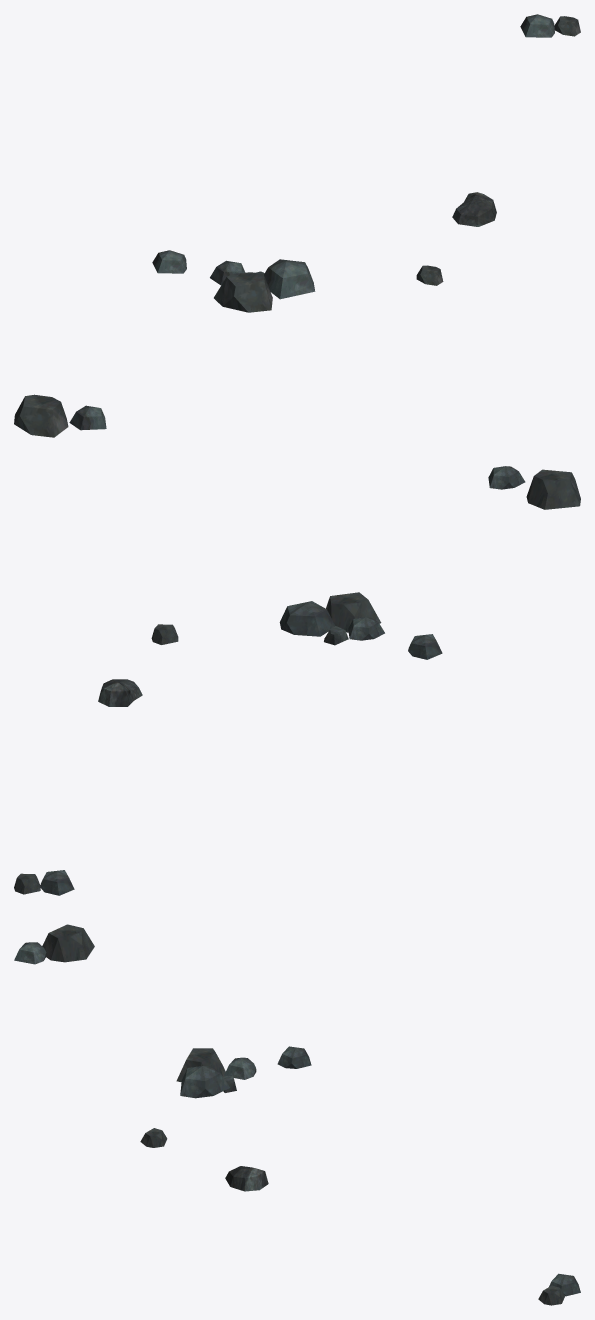
The model's file is object_rubble30.fbx.
3 views of the same model, one above another, from view 1: azimuth 30°, elevation 25°; view 2: azimuth 210°, elevation 25°; view 3: azimuth 270°, elevation 25° (orthographic). The views are drawn at different scales.
Parts seen in each view (by area): view 1: obj0.103; view 2: obj0.103; view 3: obj0.103.
Boxes of the visible parts, x1=… form: obj0.103: x1=14, y1=14, x2=580, y2=437; obj0.103: x1=14, y1=466, x2=580, y2=895; obj0.103: x1=14, y1=924, x2=580, y2=1305.
Bounding box in the file's own units: 11.68 × 0.4262 × 7.68.
